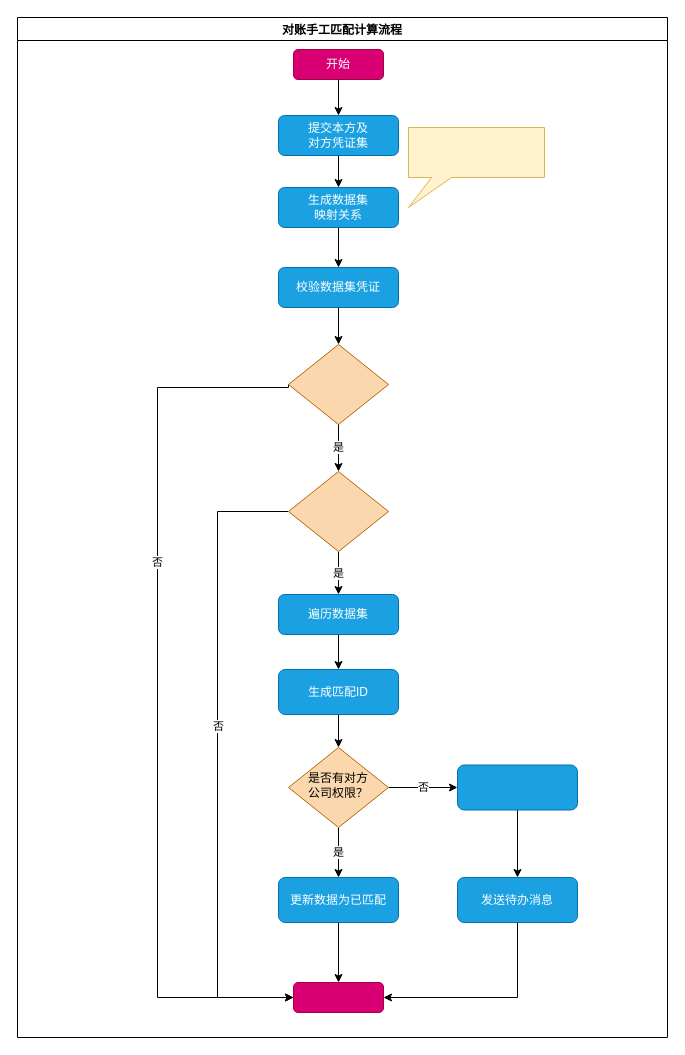
Image size: 685x1055. Some labels were removed from this diagram. Here are the shapes that lost their labels. From the top down, the box of each, then its label:
(408, 126, 544, 208): 用户可能会一次提交多家公司的凭证数据，需要按照公司进行分组
(288, 344, 388, 424): 校验币种 是否一致？
(288, 470, 388, 552): 校验金额 是否一致？
(456, 764, 578, 810): 更新数据为待确认
(292, 982, 384, 1012): 结束
